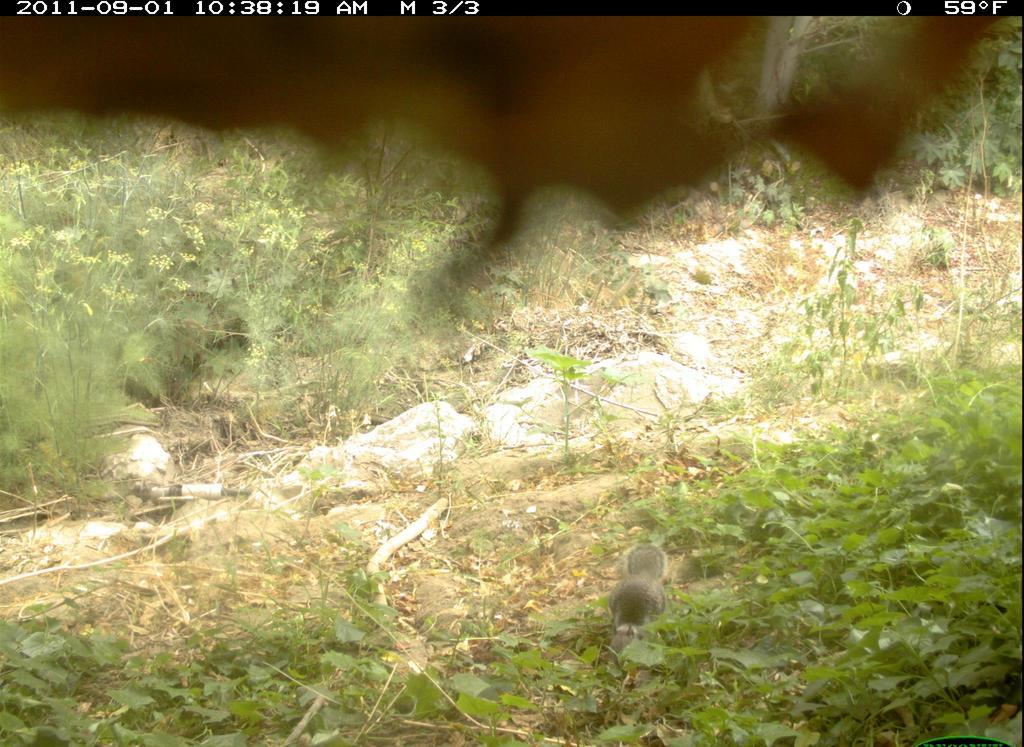squirrel: (605, 543, 675, 673)
